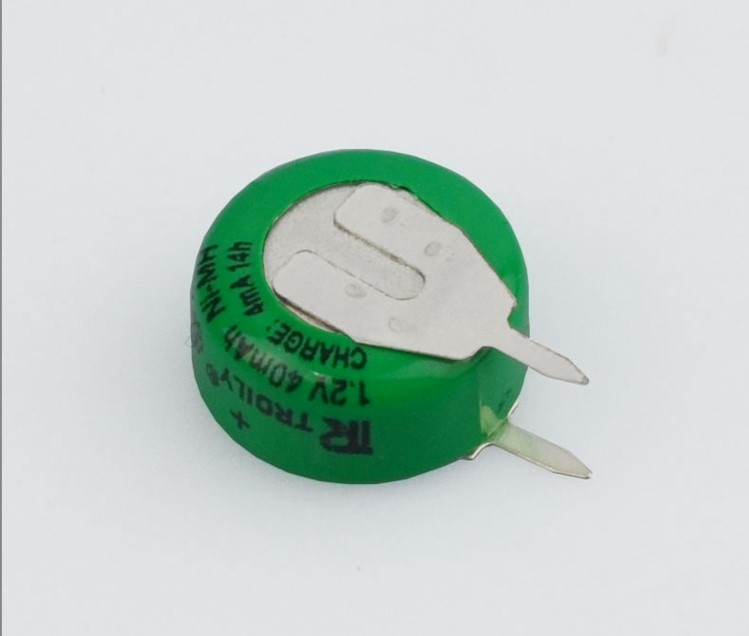Battery: (181, 146, 601, 496)
